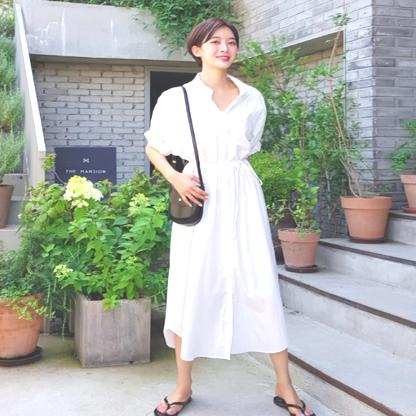dress: (146, 68, 300, 367)
